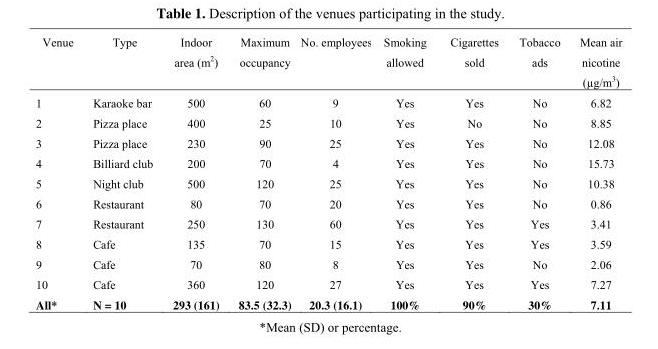table: (35, 34, 621, 312)
table column: (295, 34, 376, 312), (82, 34, 162, 312), (437, 34, 508, 312), (228, 34, 295, 312), (162, 34, 228, 312), (376, 34, 437, 312), (508, 34, 569, 312), (569, 34, 621, 312), (35, 34, 82, 312)
table column header: (35, 34, 621, 92)
table row: (35, 34, 621, 92), (35, 152, 621, 173), (35, 92, 621, 112), (35, 112, 621, 132), (35, 132, 621, 152), (35, 173, 621, 193), (35, 193, 621, 213), (35, 213, 621, 233), (35, 233, 621, 253), (35, 253, 621, 273), (35, 273, 621, 293), (35, 293, 621, 312)
